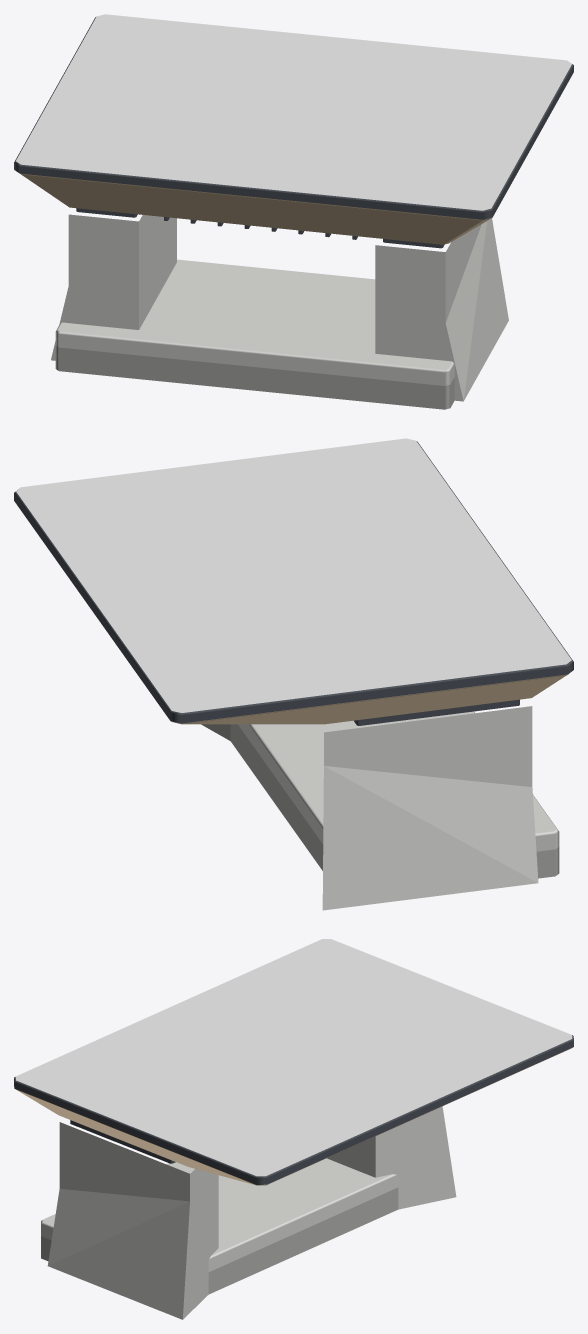
The model's file is detail.glb.
3 renders of one model, top to bottom at view 1: azimuth 30°, elevation 25°; view 2: azimuth 150°, elevation 25°; view 3: azimuth 270°, elevation 25°, orthographic. The views are drawn at different scales.
Visible parts, largest first — view 1: the-amp-ballantyne; view 2: the-amp-ballantyne; view 3: the-amp-ballantyne.
Boxes of the visible parts, x1,y1,x2,y2 form: the-amp-ballantyne: (14,14,573,409); the-amp-ballantyne: (14,438,573,910); the-amp-ballantyne: (14,939,573,1319).
Bounding box in the file's own units: 39.06 × 14.55 × 38.73.
